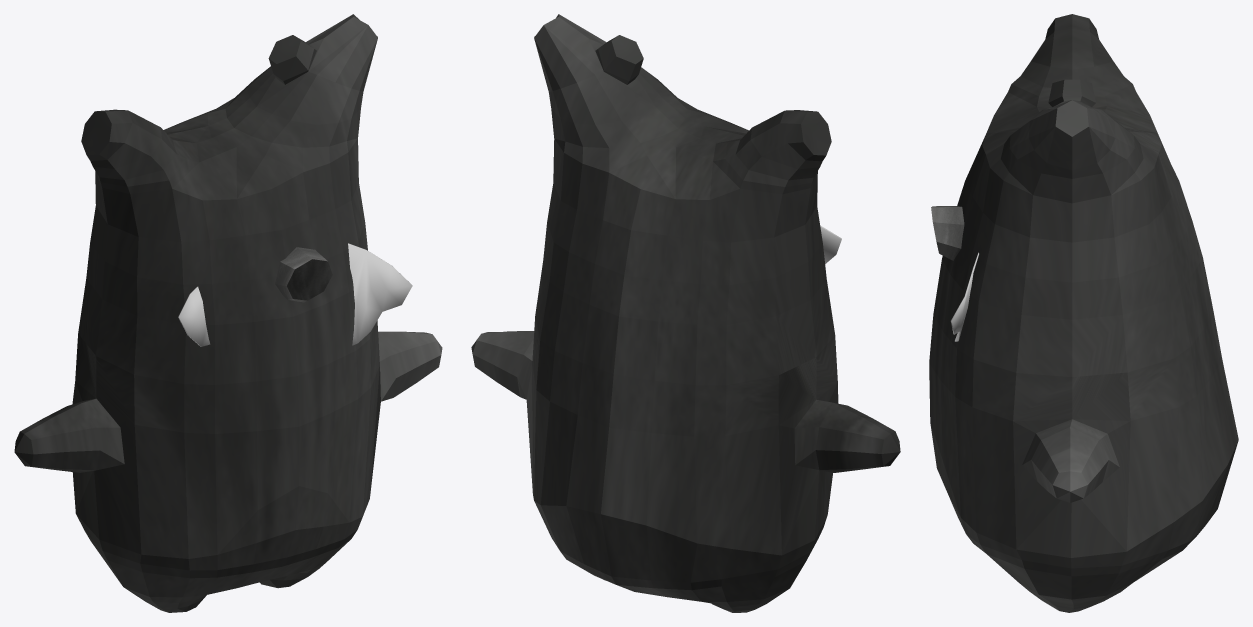
The model's file is frame_0014.obj.
3 renders of one model, left to right at view 1: azimuth 30°, elevation 25°; view 2: azimuth 150°, elevation 25°; view 3: azimuth 270°, elevation 25°, orthographic.
Parts seen in each view (by area): view 1: korok, leaf, nose; view 2: korok; view 3: korok, nose, leaf.
Boxes of the visible parts, <box> form: korok: <box>14,14,442,612</box>; leaf: <box>178,243,412,346</box>; nose: <box>275,247,332,302</box>; korok: <box>471,14,900,612</box>; korok: <box>929,14,1238,612</box>; nose: <box>931,206,964,260</box>; leaf: <box>950,252,978,341</box>.
Bounding box in the file's own units: 1.91 × 2.35 × 1.21.
